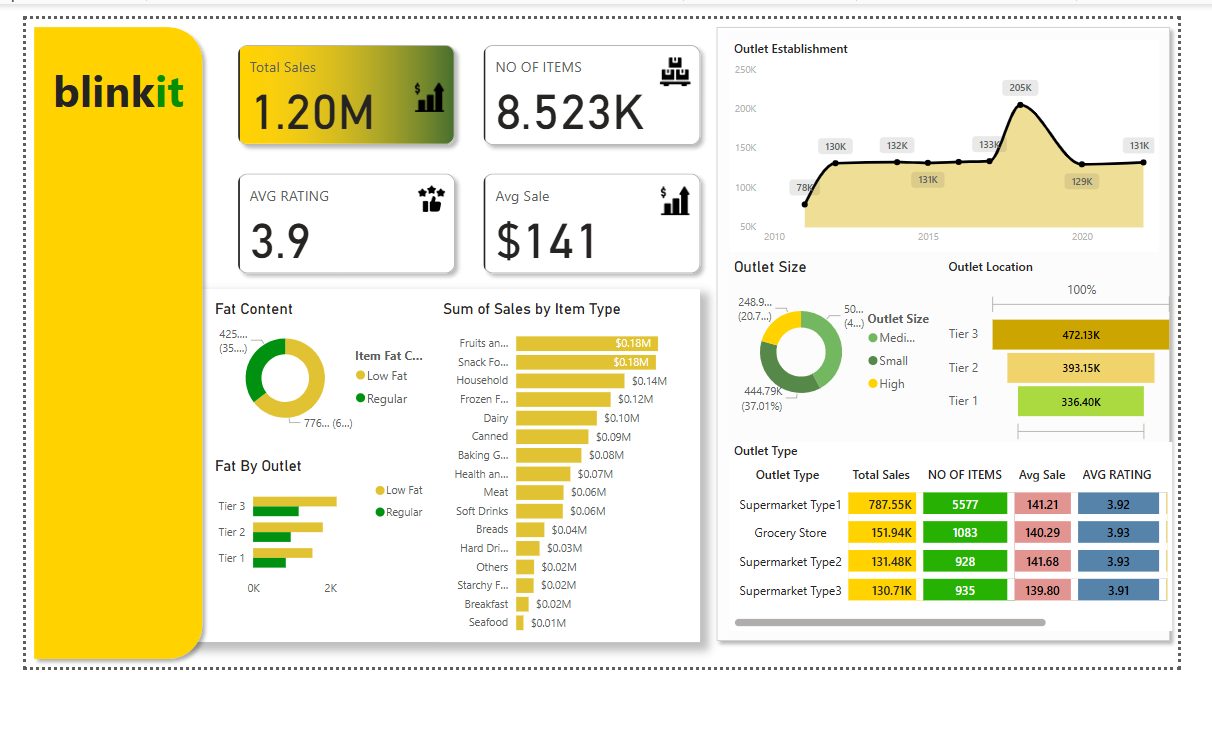

The page's visual inventory and layout, read from the dashboard file:
{"tool":"powerbi","page":{"name":"Page 1","canvas":[1280,720],"ordinal":0},"visuals":[{"type":"shape","box":[150,300,598.3,391.7],"z":0},{"type":"shape","box":[0,0,205,720],"z":1000},{"type":"textbox","box":[25,40,285,131.7],"z":2000},{"type":"cardVisual","fields":{"Data":["BlinkIt.Total Sales","BlinkIt.NO OF ITEMS","BlinkIt.AVG RATING","BlinkIt.Avg Sale"]},"box":[218.3,11.7,548.3,288.3],"z":3000},{"type":"clusteredBarChart","fields":{"Y":["Sum(BlinkIt.Sales)"],"Category":["BlinkIt.Item Type"]},"box":[457.9,311.1,290.5,380.5],"z":4000},{"type":"donutChart","title":"Fat Content","fields":{"Category":["BlinkIt.Item Fat Content"],"Y":["BlinkIt.Total Sales"]},"box":[205.3,311.1,249.5,154.7],"z":5000},{"type":"clusteredBarChart","title":"Fat By Outlet","fields":{"Category":["BlinkIt.Outlet Location Type"],"Y":["CountNonNull(BlinkIt.Item Fat Content)"],"Series":["BlinkIt.Item Fat Content"]},"box":[205.3,486.3,249.5,164.2],"z":6000},{"type":"shape","box":[758.3,0,521.7,700],"z":7000},{"type":"lineChart","title":"Outlet Establishment ","fields":{"Category":["BlinkIt.Outlet Establishment Year"],"Y":["BlinkIt.Total Sales"]},"box":[781.7,23.3,476.7,235],"z":8000},{"type":"donutChart","title":"Outlet Size","fields":{"Category":["BlinkIt.Outlet Size"],"Y":["BlinkIt.Total Sales"]},"box":[781.7,265,238.3,190],"z":9000},{"type":"funnel","title":" Outlet Location ","fields":{"Y":["Sum(BlinkIt.Sales)"],"Category":["BlinkIt.Outlet Location Type"]},"box":[1020,265,260,226.7],"z":10000},{"type":"pivotTable","title":"Outlet Type","fields":{"Rows":["BlinkIt.Outlet Type"],"Values":["BlinkIt.Total Sales","BlinkIt.NO OF ITEMS","BlinkIt.Avg Sale","BlinkIt.AVG RATING","Sum(BlinkIt.Item Visibility)"]},"box":[781.7,470,491.7,210],"z":11000}]}

Visuals, with their boxes on the page's 1280x720 design canvas (x1, y1, x2, y2). These are canvas units, not pixel positions in the 1212x737 screenshot, which may show the page scaled, cropped or inside an application window:
shape: l=150, t=300, r=748, b=692
shape: l=0, t=0, r=205, b=720
textbox: l=25, t=40, r=310, b=172
cardVisual - BlinkIt.Total Sales x BlinkIt.NO OF ITEMS: l=218, t=12, r=767, b=300
clusteredBarChart - Sum(BlinkIt.Sales) x BlinkIt.Item Type: l=458, t=311, r=748, b=692
"Fat Content" donutChart: l=205, t=311, r=455, b=466
"Fat By Outlet" clusteredBarChart: l=205, t=486, r=455, b=650
shape: l=758, t=0, r=1280, b=700
"Outlet Establishment " lineChart: l=782, t=23, r=1258, b=258
"Outlet Size" donutChart: l=782, t=265, r=1020, b=455
" Outlet Location " funnel: l=1020, t=265, r=1280, b=492
"Outlet Type" pivotTable: l=782, t=470, r=1273, b=680
